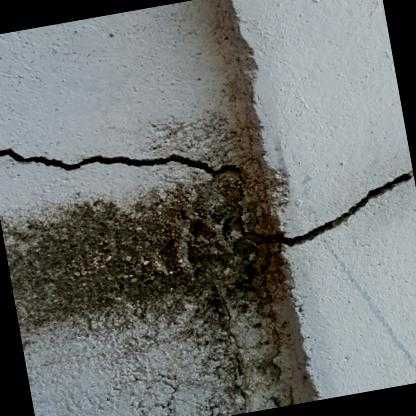crack: (0, 148, 414, 246)
